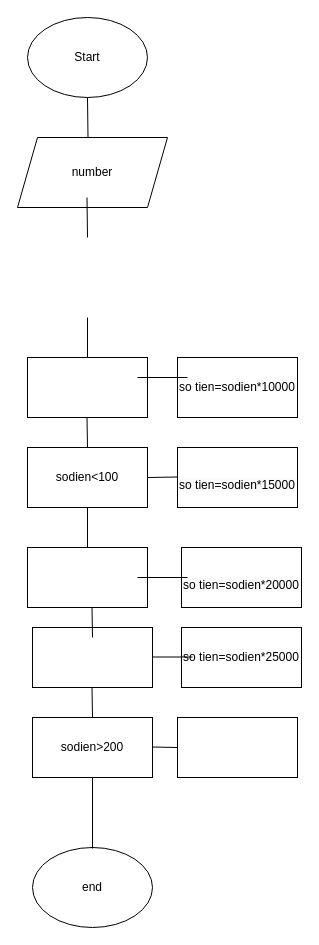
Some shapes in this 319 by 945 pixel diagram are drawn without their labels. Here are the shapes that lost their labels. From the top down, the centre of each, then its label:
the point at 87,387: 0<=sodien<50
the point at 87,577: sodien<150
the point at 92,657: sodien<200
the point at 237,747: so tien=sodien*30000
